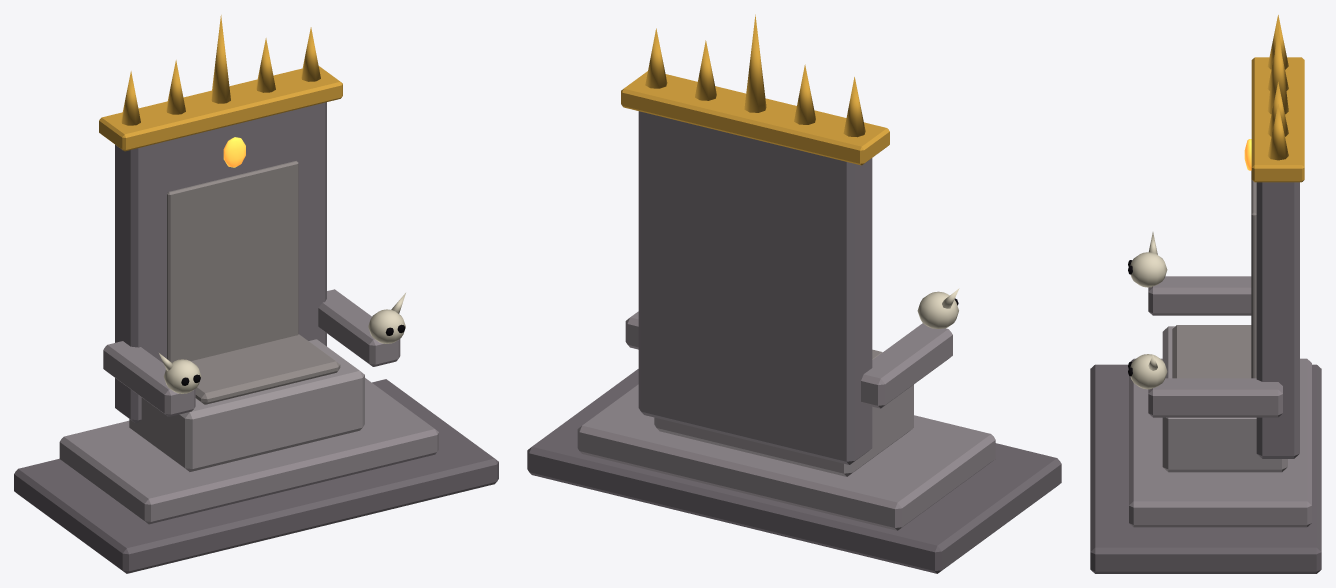
File: trono.glb
3 views of the same model, side by side, from view 1: azimuth 30°, elevation 25°; view 2: azimuth 150°, elevation 25°; view 3: azimuth 270°, elevation 25° (orthographic). The views are drawn at different scales.
Parts seen in each view (by area): view 1: trono; view 2: trono; view 3: trono.
Boxes of the visible parts, x1,y1,x2,y2 form: trono: [14, 15, 498, 573]; trono: [527, 14, 1061, 573]; trono: [1090, 15, 1321, 573].
Size of the model in its own units: 4.6 by 5.25 by 2.4.
